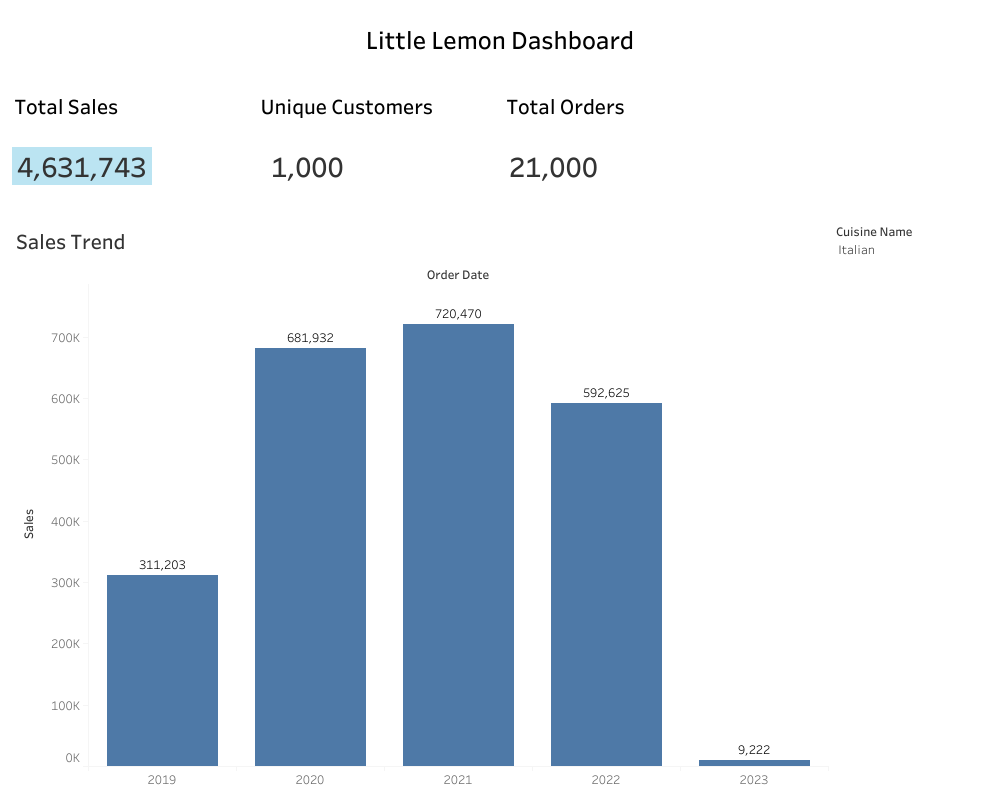

The dashboard page shown, as its layout file describes it:
{"tool":"tableau","page":{"name":"Little Lemon Dashboard","canvas":[1000,800],"ordinal":0},"visuals":[{"type":"text","box":[8,8,984,61]},{"type":"text","box":[8,69,246,74]},{"type":"text","box":[254,69,246,74]},{"type":"text","box":[500,69,492,74]},{"type":"worksheet","title":"Total Sales","mark":"Text","box":[8,143,246,74]},{"type":"worksheet","title":"Total Customer","mark":"Text","box":[254,143,246,74]},{"type":"worksheet","title":"Total Orders","mark":"Text","box":[500,143,492,74]},{"type":"worksheet","title":"Sales","mark":"Bar","rows":["Sales"],"cols":["Order Date"],"box":[8,217,824,575]},{"type":"filter","title":"Sales","param":"[federated.0dgoym41wxgtsc1ehfgl50nuwl76].[none:Cuisine Name:nk]","box":[832,217,160,56]}]}

Visuals, with their boxes in screenshot pixels (x1, y1, x2, y2), scaled from the page's 1000x800 canvas onto the 999x799 screenshot:
text: x1=8, y1=8, x2=991, y2=69
text: x1=8, y1=69, x2=254, y2=143
text: x1=254, y1=69, x2=500, y2=143
text: x1=500, y1=69, x2=991, y2=143
"Total Sales" worksheet (Text marks): x1=8, y1=143, x2=254, y2=217
"Total Customer" worksheet (Text marks): x1=254, y1=143, x2=500, y2=217
"Total Orders" worksheet (Text marks): x1=500, y1=143, x2=991, y2=217
"Sales" worksheet (Bar marks): x1=8, y1=217, x2=831, y2=791
"Sales" filter: x1=831, y1=217, x2=991, y2=273
